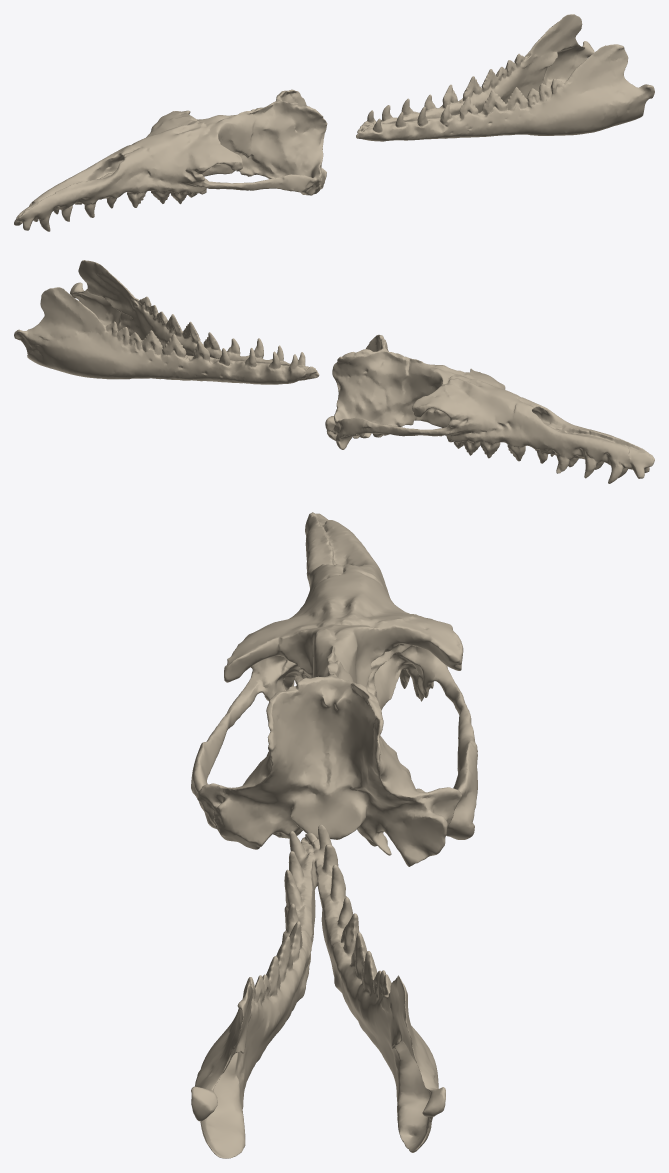
The model's file is print-project-1-20.glb.
The picture shows the model from 3 angles, top to bottom: view 1: azimuth 30°, elevation 25°; view 2: azimuth 150°, elevation 25°; view 3: azimuth 270°, elevation 25°; orthographic projection. The views are drawn at different scales.
Size of the model in its own units: 0.1168 by 0.0156 by 0.0239.
